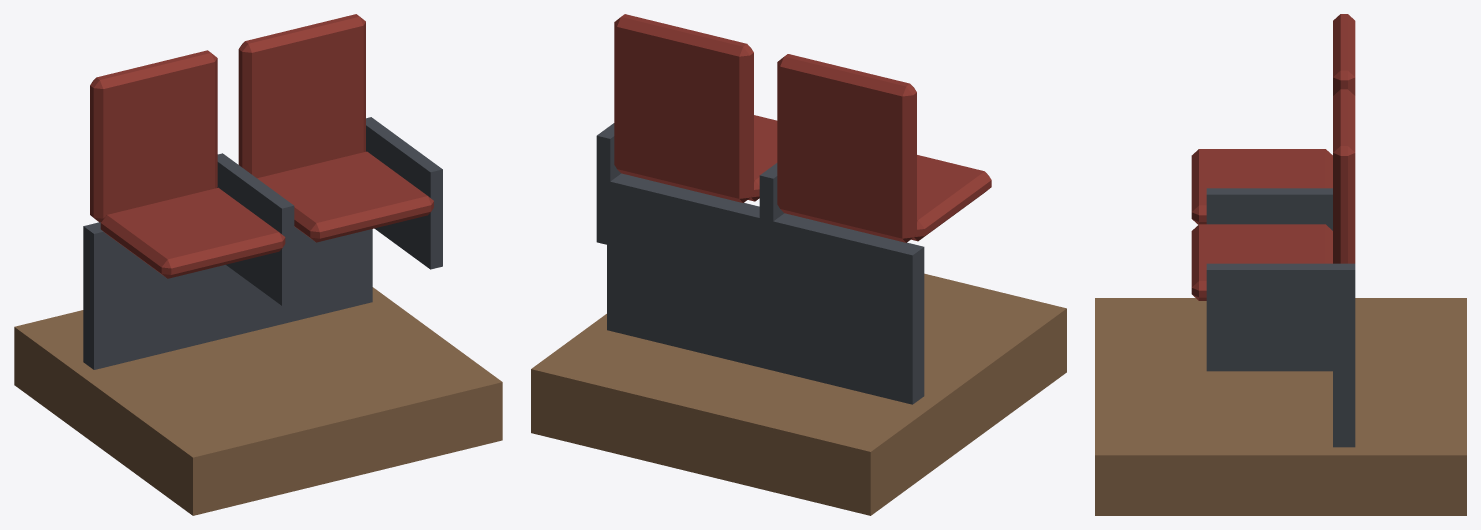
The model's file is auditorium_seats.glb.
3 views of the same model, side by side, from view 1: azimuth 30°, elevation 25°; view 2: azimuth 150°, elevation 25°; view 3: azimuth 270°, elevation 25° (orthographic). The views are drawn at different scales.
Parts seen in each view (by area): view 1: auditorium_seats_mesh; view 2: auditorium_seats_mesh; view 3: auditorium_seats_mesh.
Part boxes in pixels (x1=…): auditorium_seats_mesh: x1=14, y1=14, x2=502, y2=515; auditorium_seats_mesh: x1=531, y1=14, x2=1066, y2=515; auditorium_seats_mesh: x1=1095, y1=14, x2=1466, y2=515.
Size of the model in its own units: 1 by 1.06 by 1.
